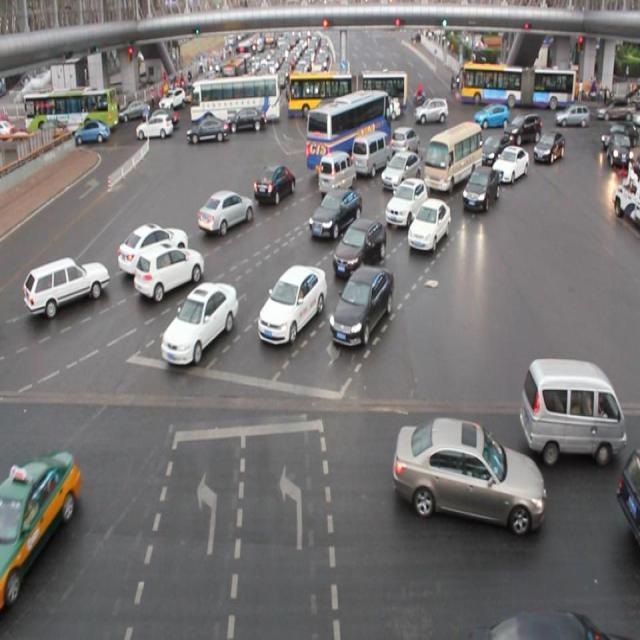car: (389, 414, 546, 536), (1, 444, 84, 618), (161, 281, 238, 364), (256, 262, 327, 348), (23, 255, 109, 319), (328, 265, 393, 347), (117, 221, 188, 278), (136, 243, 205, 300), (332, 217, 387, 274), (197, 187, 253, 236), (308, 190, 362, 238), (406, 200, 451, 255), (384, 179, 427, 225), (460, 167, 500, 212), (254, 163, 297, 204), (380, 153, 421, 191), (492, 143, 527, 184), (478, 133, 513, 169), (504, 114, 540, 146), (532, 132, 565, 164), (390, 125, 419, 161)
truck: (518, 356, 626, 466), (420, 126, 476, 192), (351, 131, 393, 177), (317, 152, 355, 198)
van: (306, 91, 392, 176)
